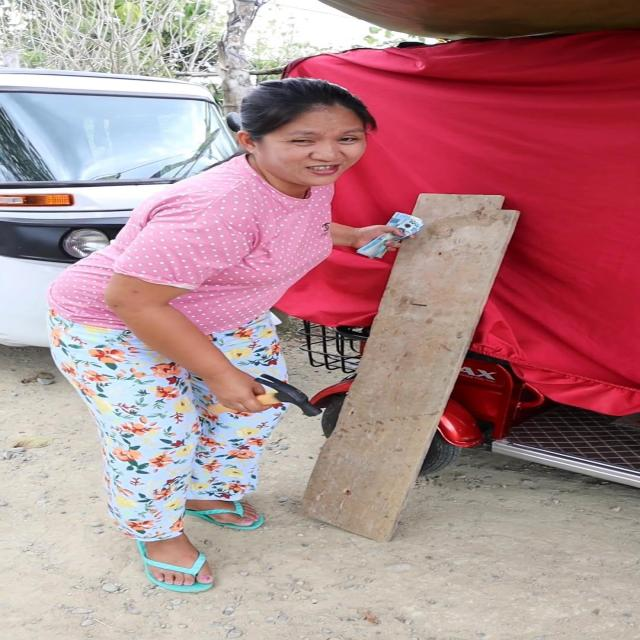hammer: (201, 372, 323, 420)
